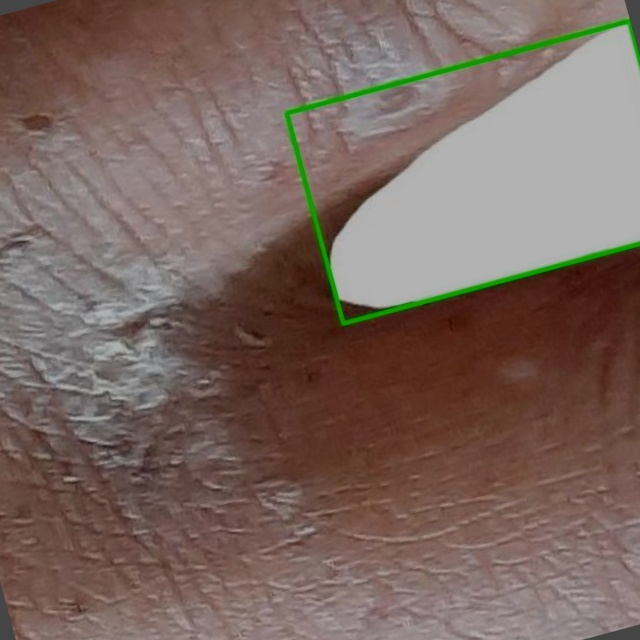Scabies: (286, 21, 639, 323)
